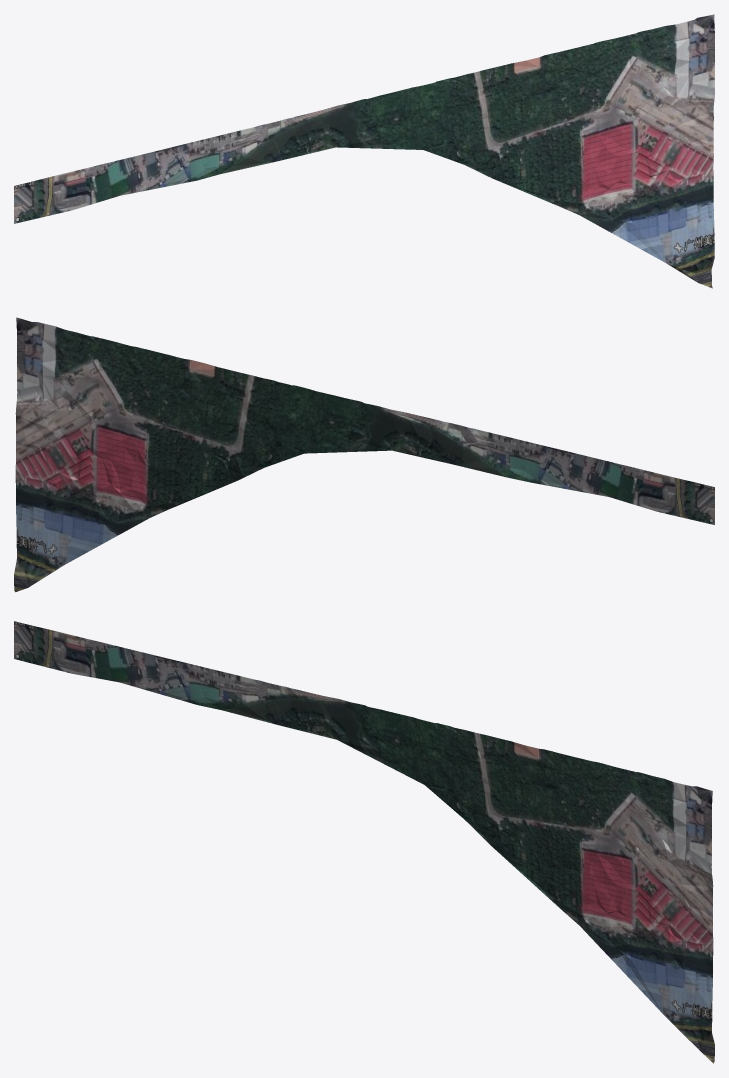
The picture shows the model from 3 angles, top to bottom: view 1: azimuth 30°, elevation 25°; view 2: azimuth 150°, elevation 25°; view 3: azimuth 330°, elevation 25°; orthographic projection.
Visible parts, largest first — view 1: 0_2_3_0_1; view 2: 0_2_3_0_1; view 3: 0_2_3_0_1.
Boxes of the visible parts, <box> form: 0_2_3_0_1: <box>14,14,714,288</box>; 0_2_3_0_1: <box>14,317,714,592</box>; 0_2_3_0_1: <box>14,621,714,1063</box>.
Bounding box in the file's own units: 972 × 365 × 8.14.
Materials: 1 (1 with a texture image).
